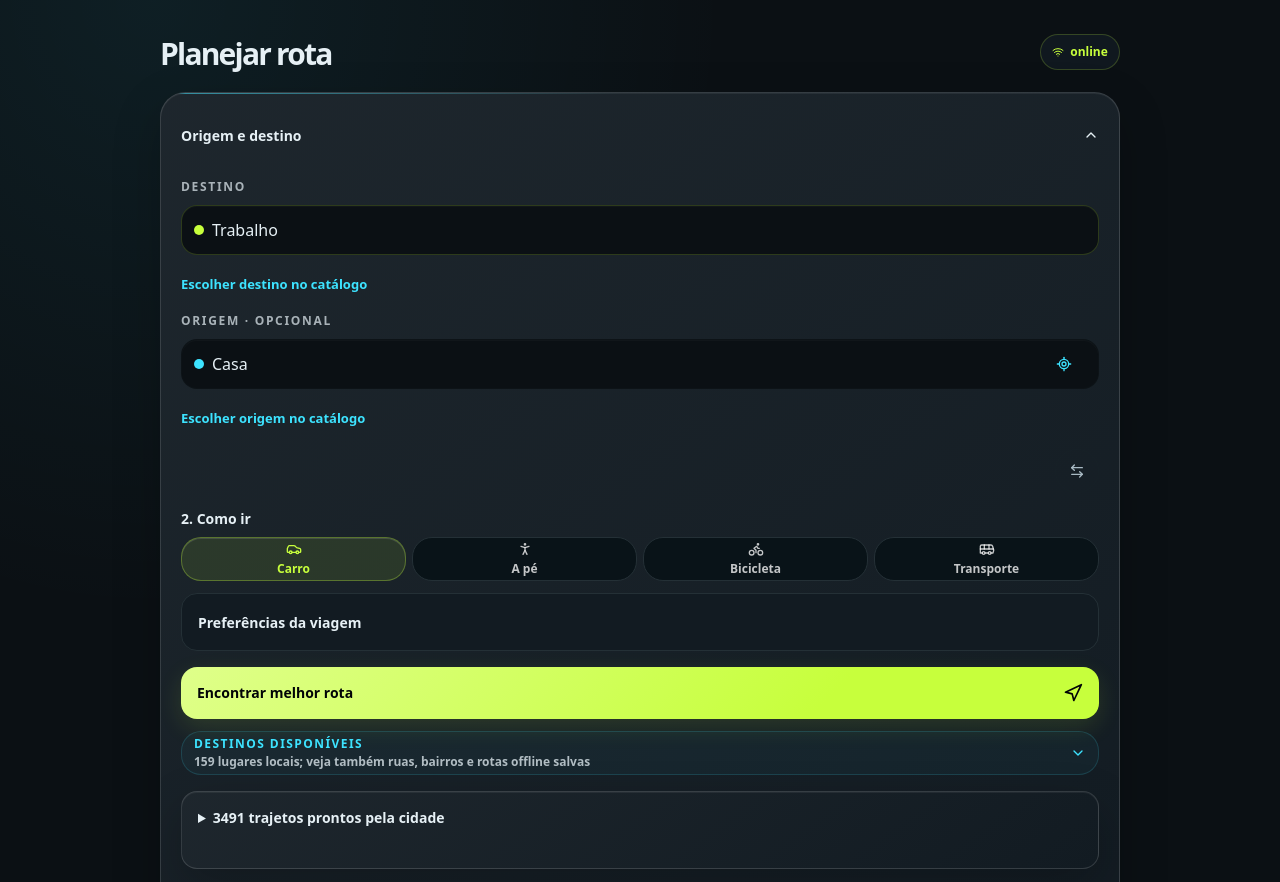
it: unlocks calculation after editing while a public request is pending
Click the button with test id "planner-primary-action". click: (275, 692)
box: [181,667,1099,719]
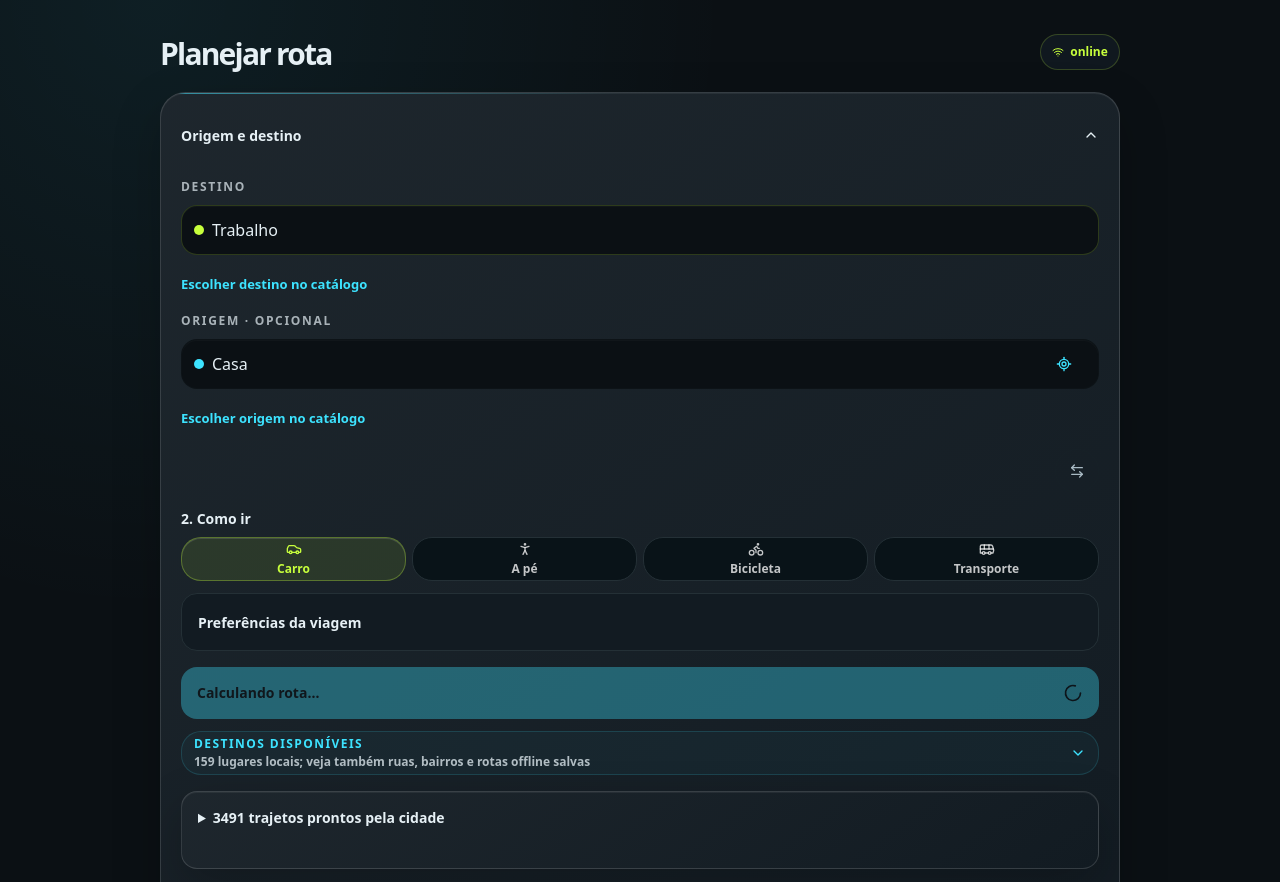
Result: the button with test id "planner-primary-action" is disabled at [181,667,1099,719]
Replace the text in the field with placeholder "Para onde você vai" with "Hospital". click: (649, 230)
box: [212,206,1086,254]
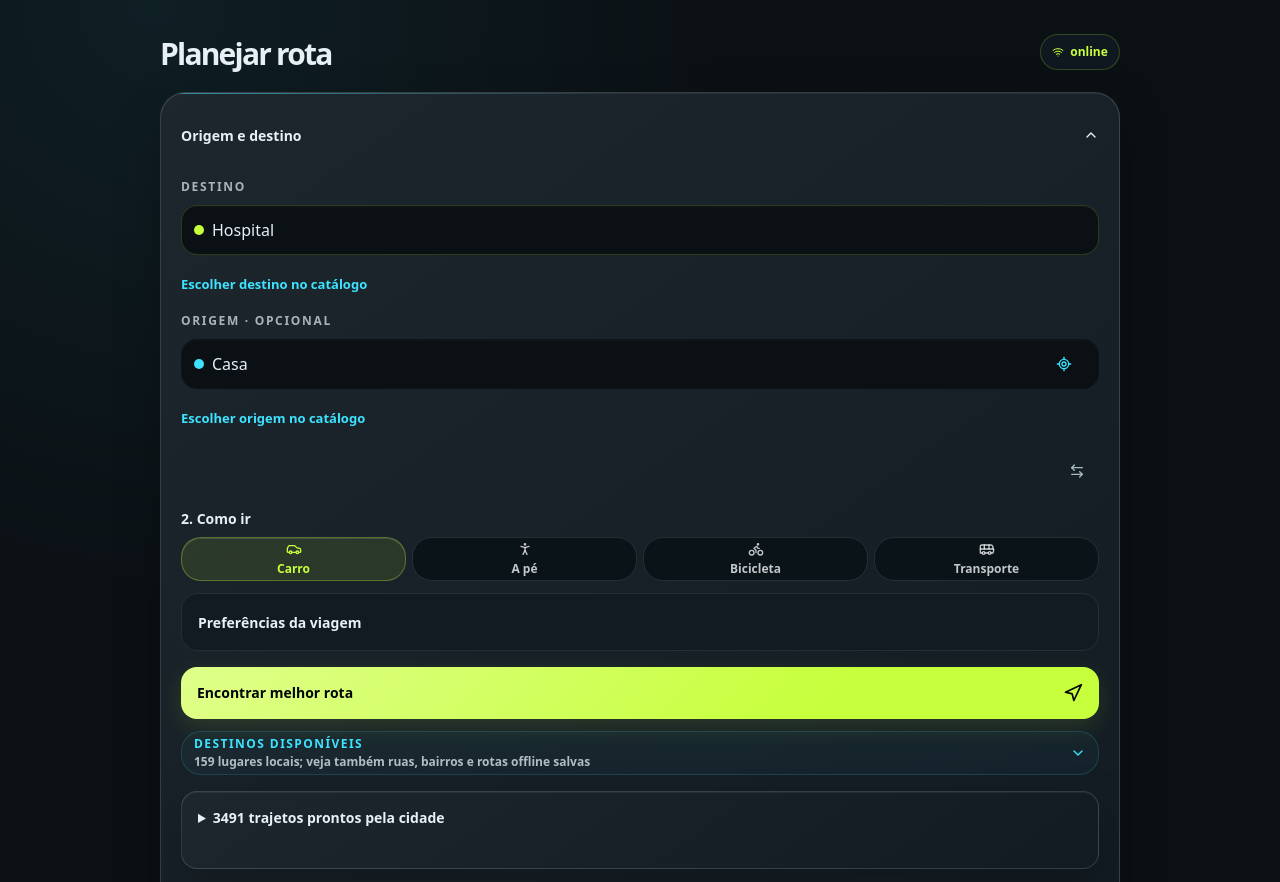
Result: the button with test id "planner-primary-action" is enabled at [181,667,1099,719]
